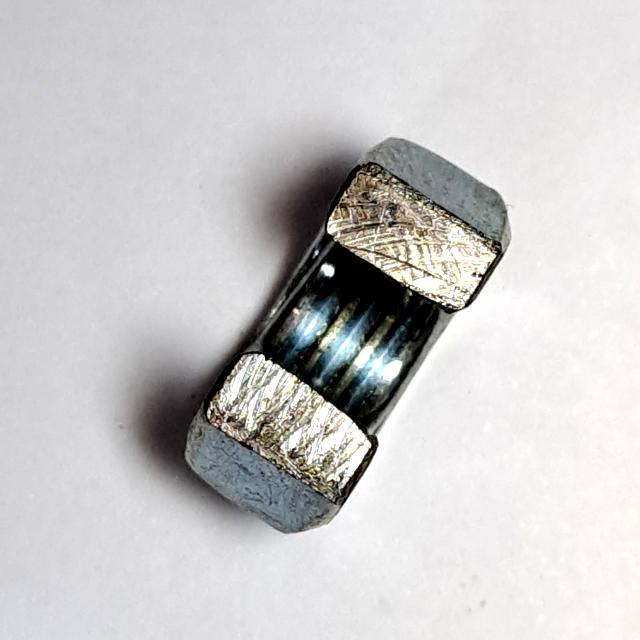Side-Fracture: (166, 121, 522, 547)
